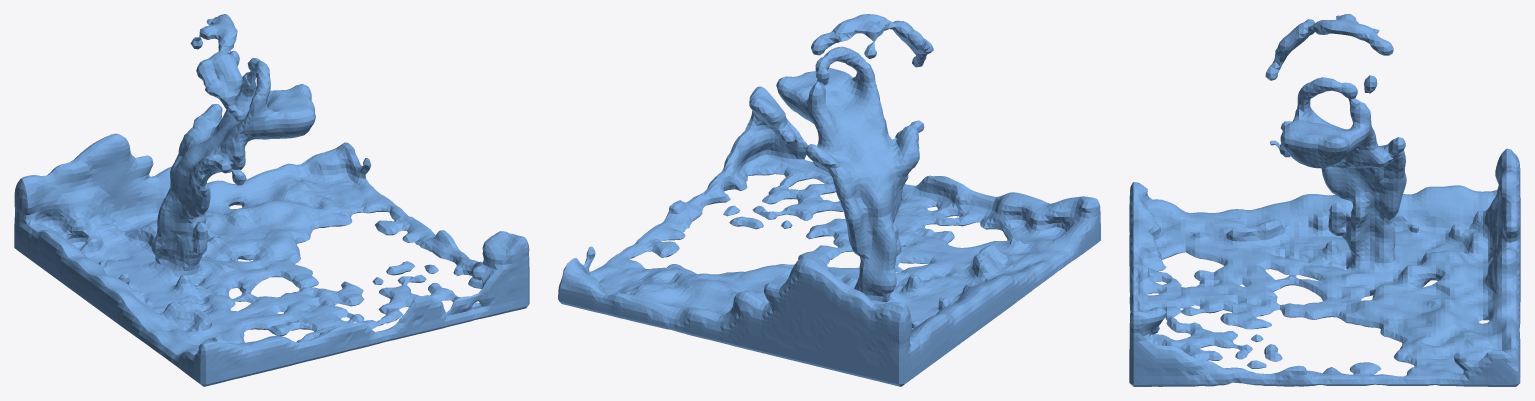
Rendered from water_0072.glb.
3 renders of one model, left to right at view 1: azimuth 30°, elevation 25°; view 2: azimuth 150°, elevation 25°; view 3: azimuth 270°, elevation 25°, orthographic. The views are drawn at different scales.
Visible parts, largest first — view 1: Water_0072; view 2: Water_0072; view 3: Water_0072.
Part boxes in pixels (<box>): Water_0072: <box>14,14,529,386</box>; Water_0072: <box>558,14,1100,386</box>; Water_0072: <box>1129,14,1520,386</box>.
Size of the model in its own units: 4.83 by 3.63 by 4.83.
